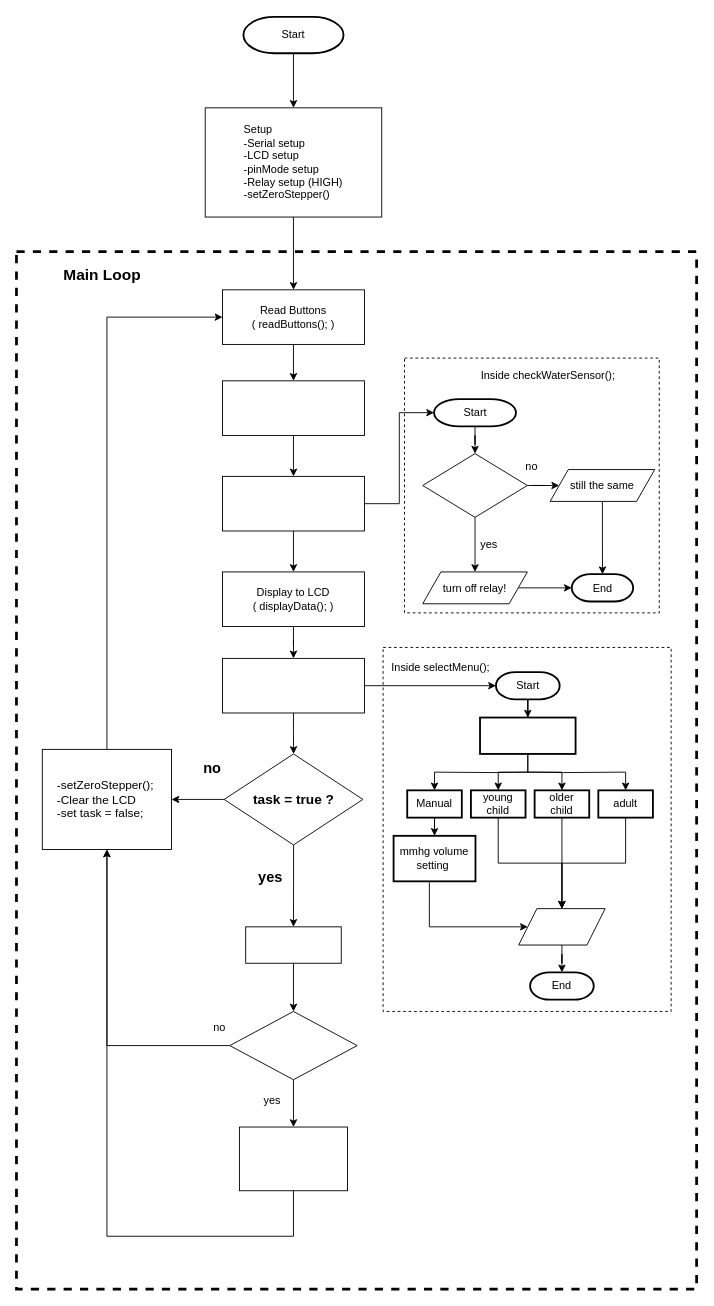
This 714x1306 diagram has some shape labels left out. Here are the shapes that lost their labels. From the top down, the centre of each, then its label:
the point at 293,407: Read the Battery ( readBattery(); )
the point at 293,503: Check the Water ( checkWaterSensor(); )
the point at 474,485: found water?
the point at 293,685: Menu Display Processing ( selectMenu(); )
the point at 527,735: Select Mode
the point at 293,944: Start the Stepper (//Fix Stepper)
the point at 561,926: task = true
the point at 293,1045: is this Manual mode ?
the point at 293,1158: Start the Stepper for Manual (//Manual Stepper)
